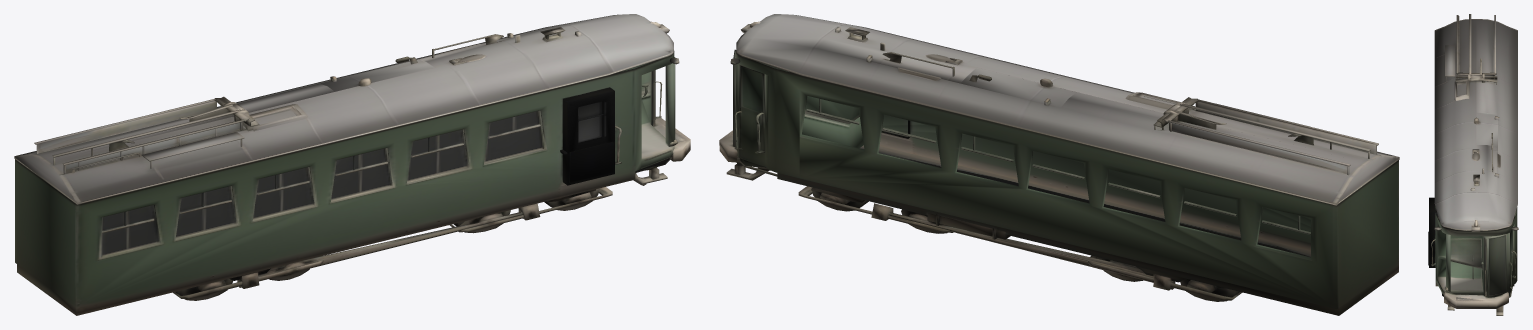
Rendered from coach_clean.glb.
3 views of the same model, side by side, from view 1: azimuth 30°, elevation 25°; view 2: azimuth 150°, elevation 25°; view 3: azimuth 270°, elevation 25° (orthographic). The views are drawn at different scales.
Parts seen in each view (by area): view 1: coach_clean_LOD0; view 2: coach_clean_LOD0; view 3: coach_clean_LOD0.
Boxes of the visible parts, <box> form: coach_clean_LOD0: <box>14,14,690,315</box>; coach_clean_LOD0: <box>719,14,1399,315</box>; coach_clean_LOD0: <box>1428,14,1518,315</box>.
Size of what is drawn, in the model's own units: 16 by 4.2 by 3.
1 material, 1 textured.
